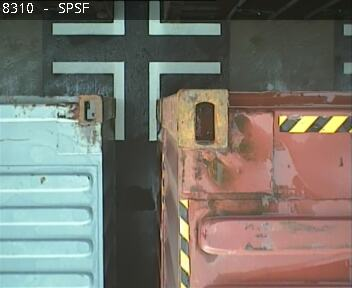groundmarker_1: (52, 61, 221, 138), (52, 1, 220, 38)
